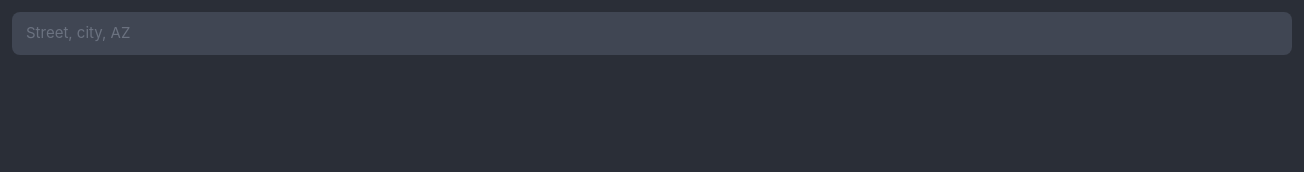
Scenario: a burst of typing asks Places once for the text in the field
Type "1" into the field with test id "address". click: (652, 33)
box: top-left (12, 12), bottom-right (1292, 54)
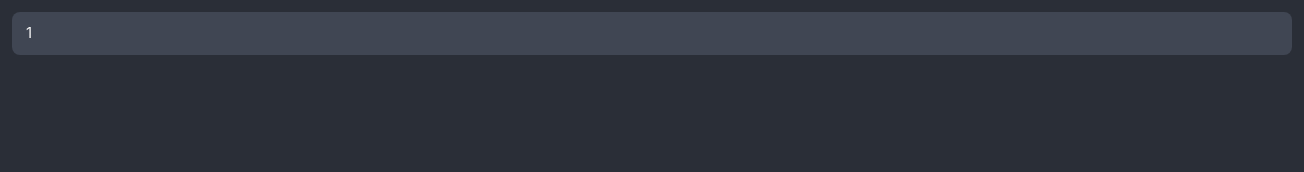
Replace the text in the field with test id "address" with "12". click: (652, 33)
box: top-left (12, 12), bottom-right (1292, 54)
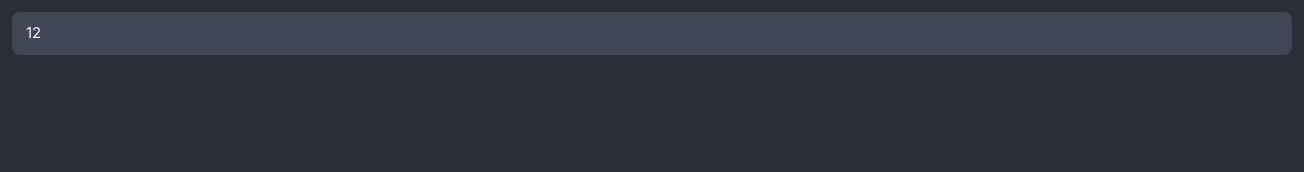
Replace the text in the field with test id "address" with "123 Main". click: (652, 33)
box: top-left (12, 12), bottom-right (1292, 54)
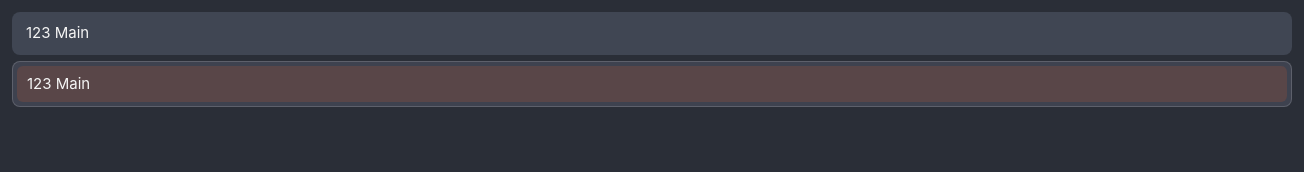
Now the option reads "123 Main", box top-left (17, 66), bottom-right (1287, 102)
